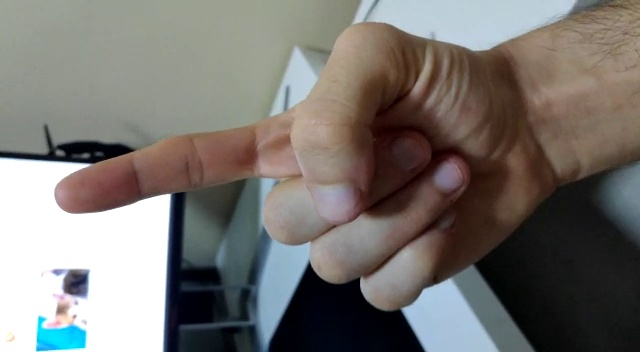One: (47, 12, 592, 322)
